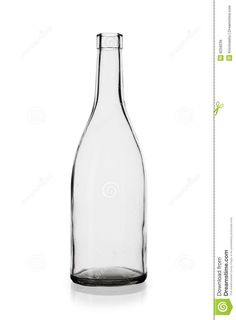emptybottle: (70, 32, 147, 285)
